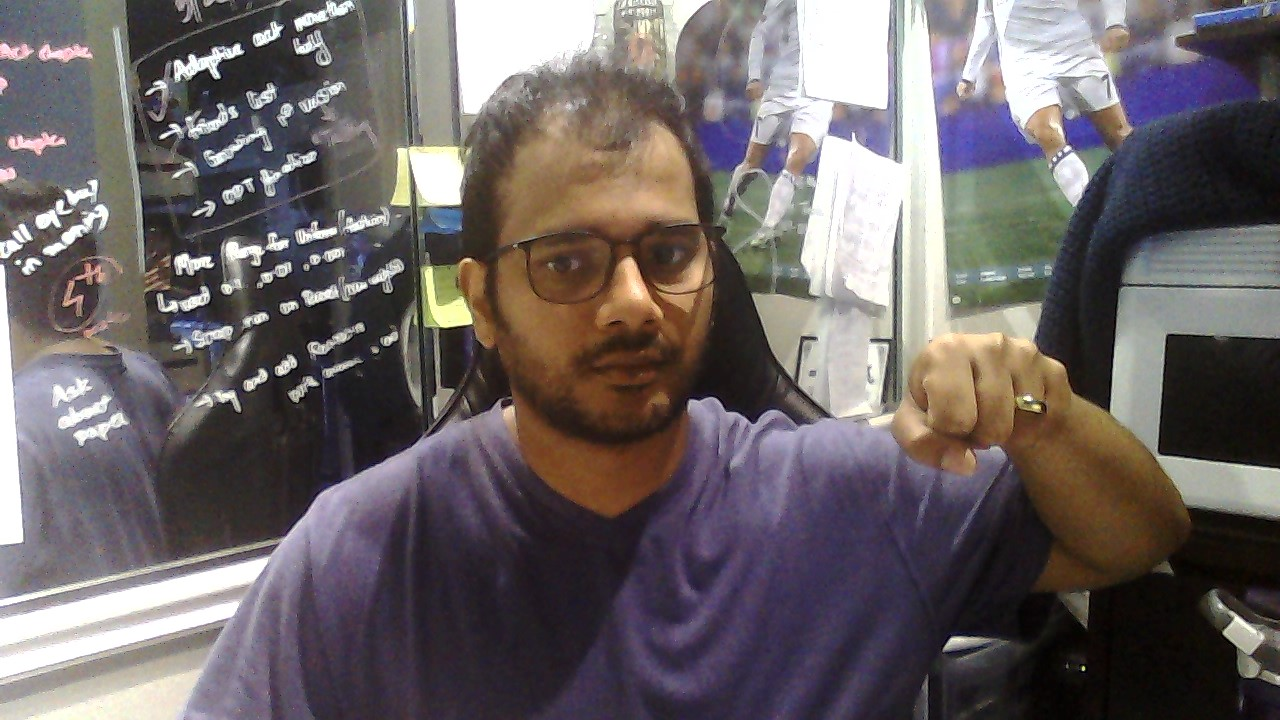Yes: (891, 331, 1073, 477)
